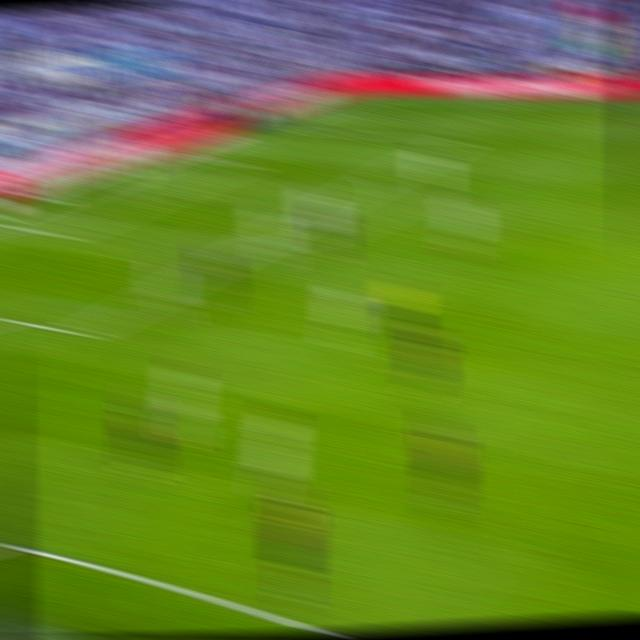bigarea_bottom_inner: (69, 321, 97, 346)
bigarea_bottom_outter: (363, 171, 390, 191)
smallarea_top_inner: (232, 156, 256, 169)
top_arc_area_intersection: (364, 171, 391, 191)
